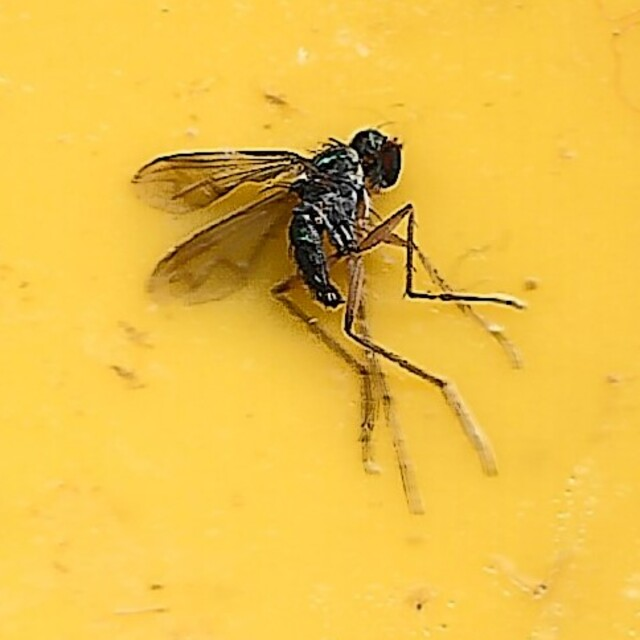Brachycera: (132, 133, 508, 507)
